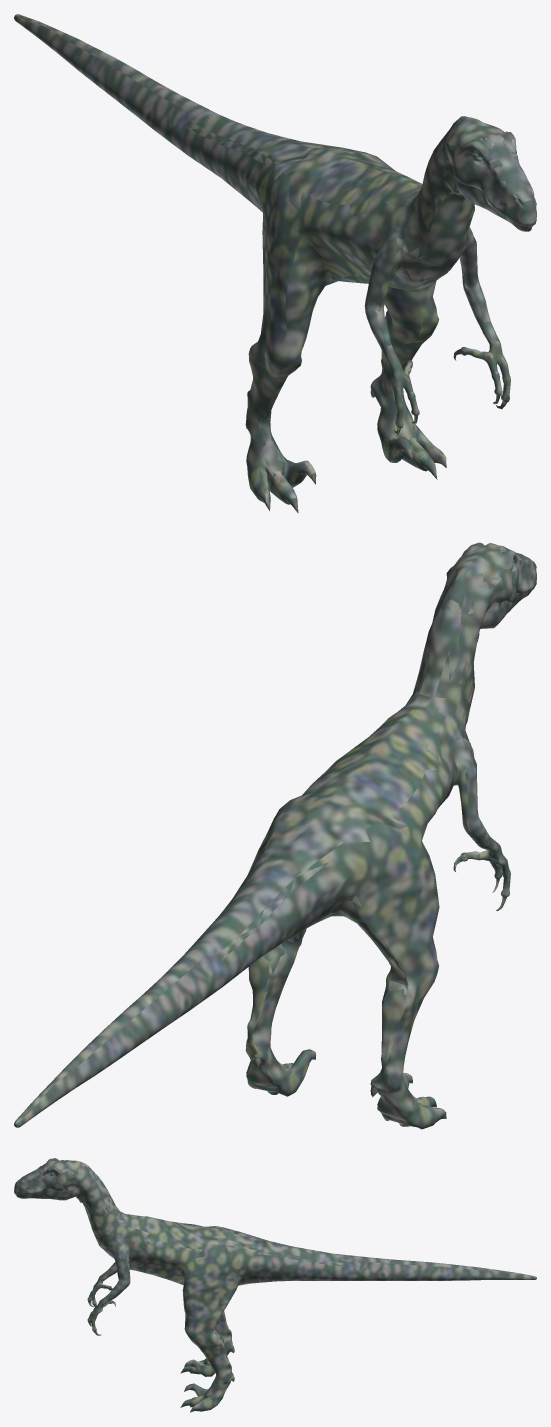
Rendered from dino1.obj.
3 views of the same model, one above another, from view 1: azimuth 30°, elevation 25°; view 2: azimuth 150°, elevation 25°; view 3: azimuth 270°, elevation 25° (orthographic). The views are drawn at different scales.
Parts seen in each view (by area): view 1: dei_body; view 2: dei_body; view 3: dei_body.
Boxes of the visible parts, x1,y1,x2,y2 form: dei_body: (14, 14, 536, 513); dei_body: (14, 542, 536, 1129); dei_body: (14, 1158, 536, 1412).
Size of the model in its own units: 0.3688 by 0.8838 by 1.82.
Materials: 1 (1 with a texture image).
